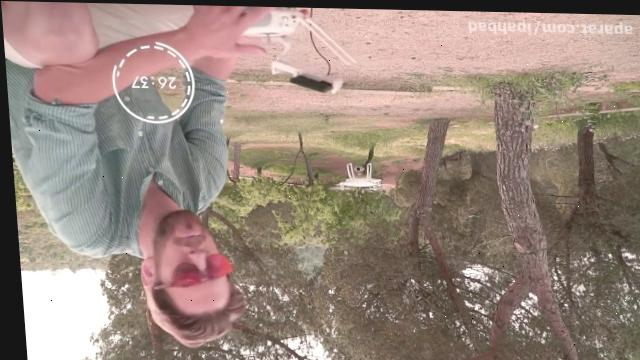drone: (323, 159, 385, 193)
